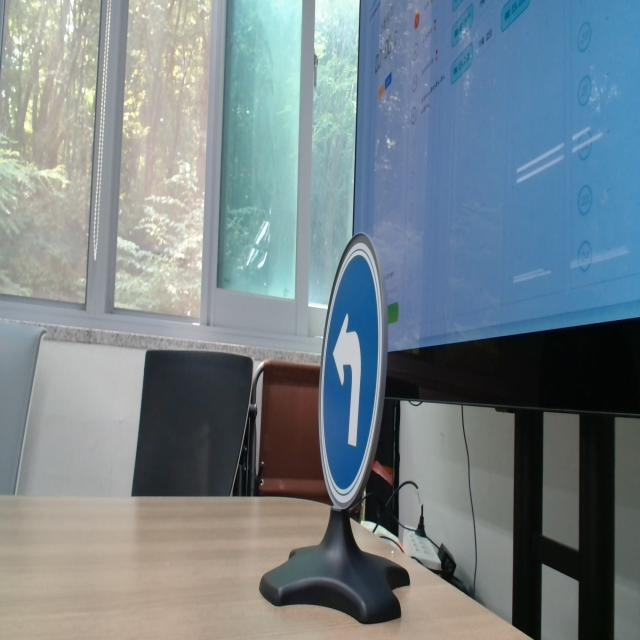left_direction: (295, 198, 410, 512)
